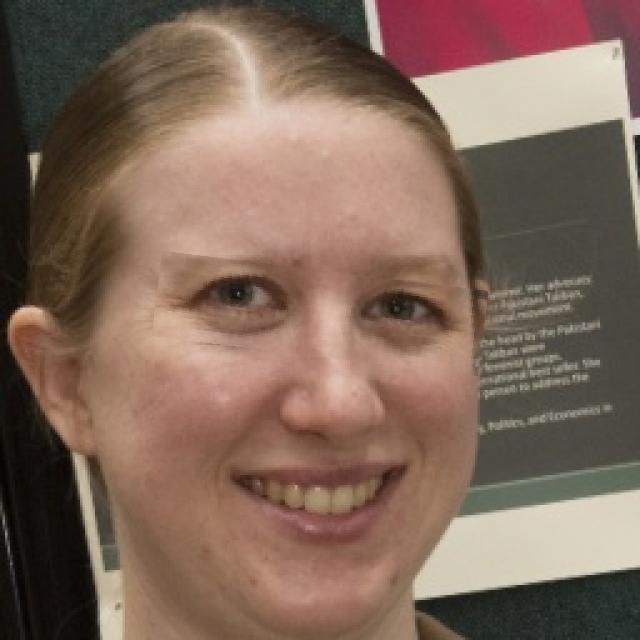no-glasses: (153, 261, 486, 367)
